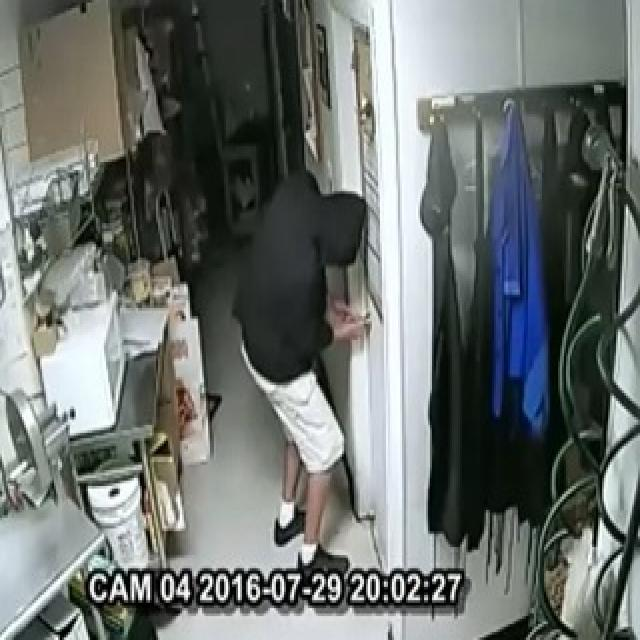thief: (238, 160, 380, 568)
